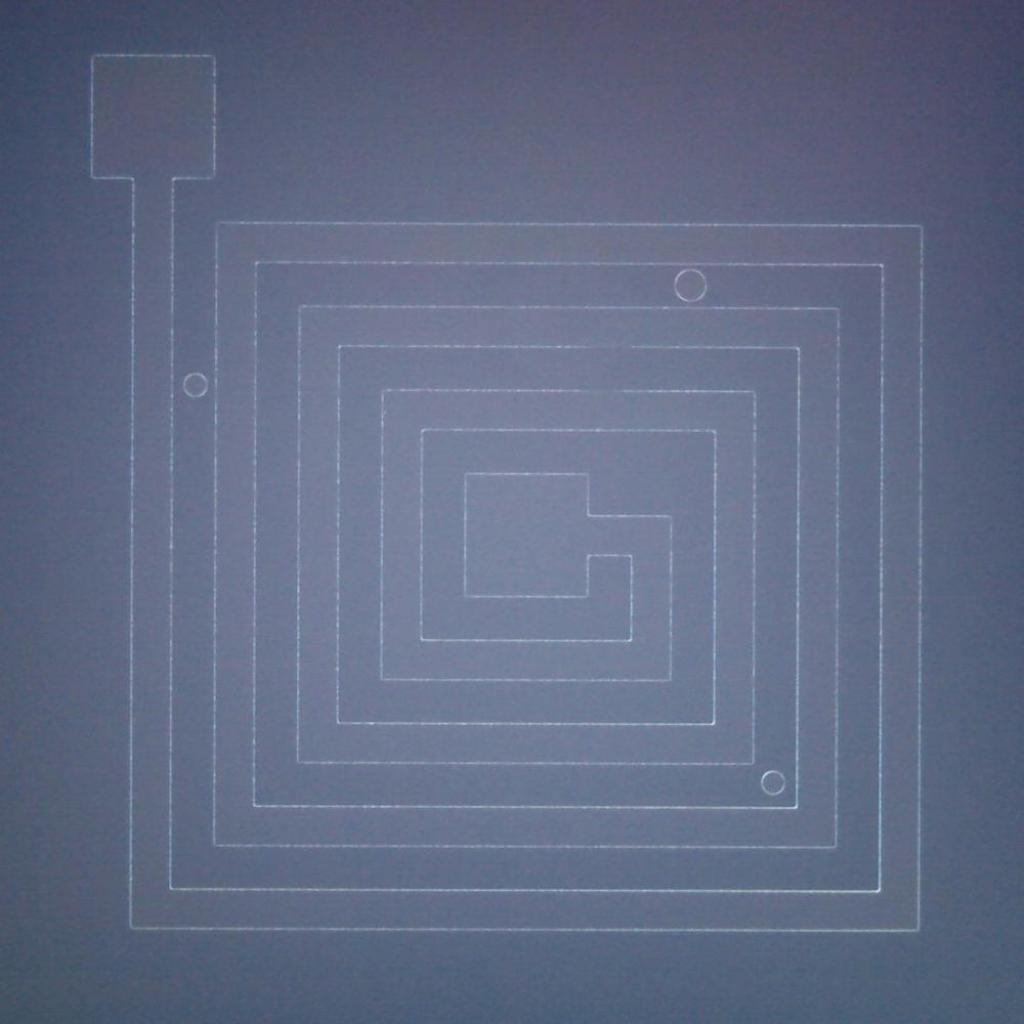circle: (672, 266, 710, 302), (178, 367, 212, 404), (760, 764, 787, 800)
